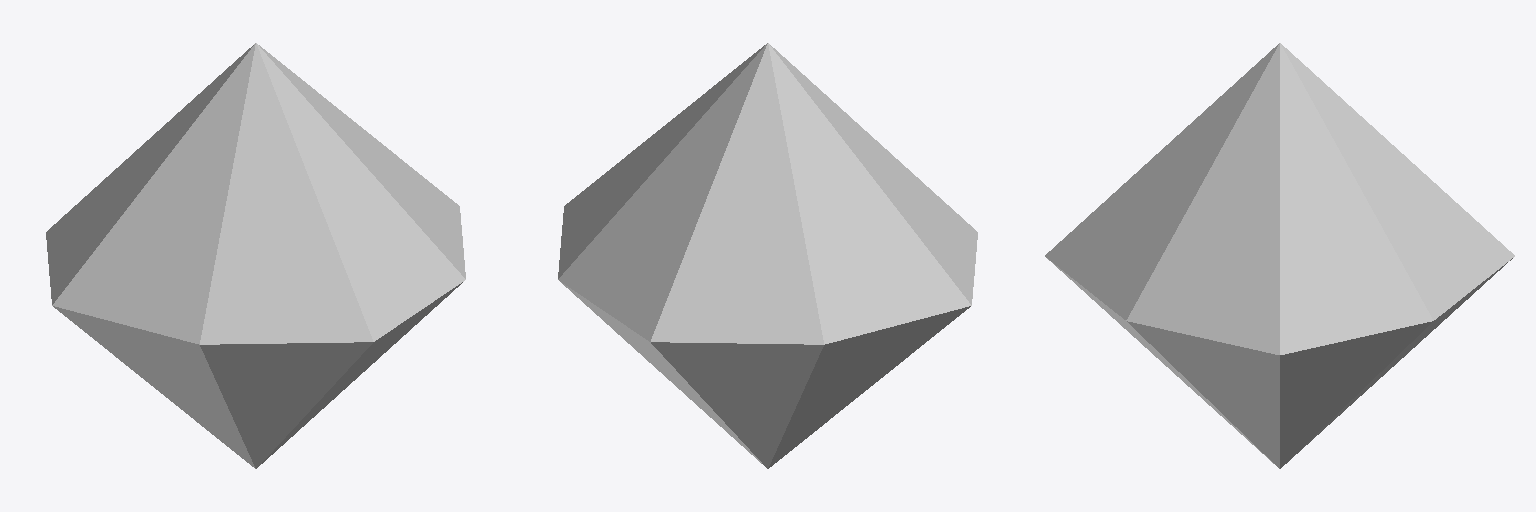
File: crystal.obj
3 renders of one model, left to right at view 1: azimuth 30°, elevation 25°; view 2: azimuth 150°, elevation 25°; view 3: azimuth 270°, elevation 25°, orthographic.
Bounding box in the file's own units: 2 × 2 × 2.